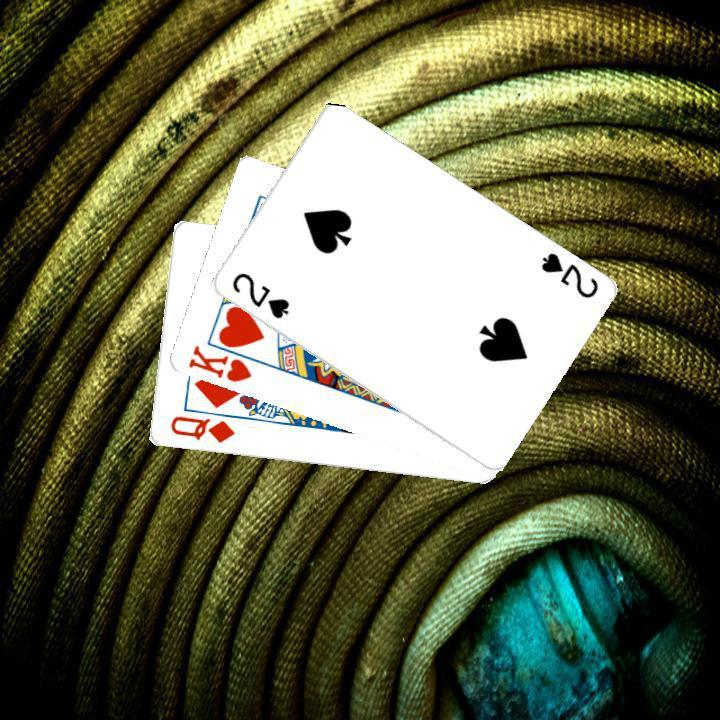2: (226, 268, 291, 321), (536, 248, 600, 301)
K: (183, 341, 253, 385)
Q: (165, 412, 236, 446)
